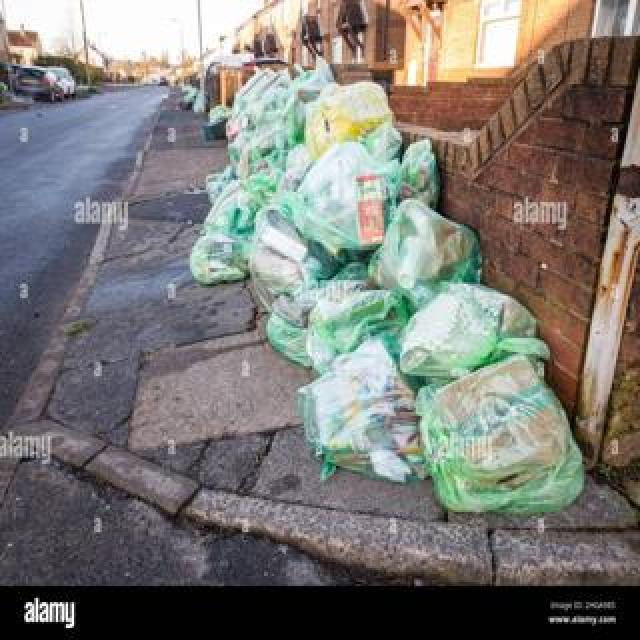high trash: (191, 65, 582, 512)
